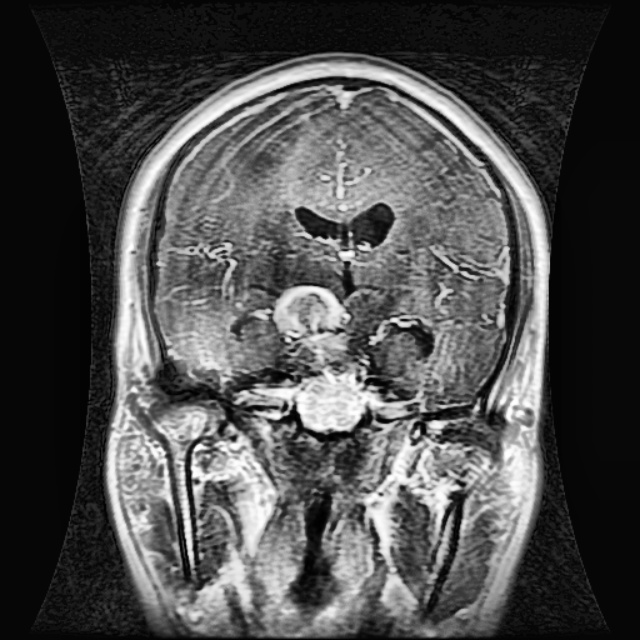Meningioma: (268, 282, 354, 368)
